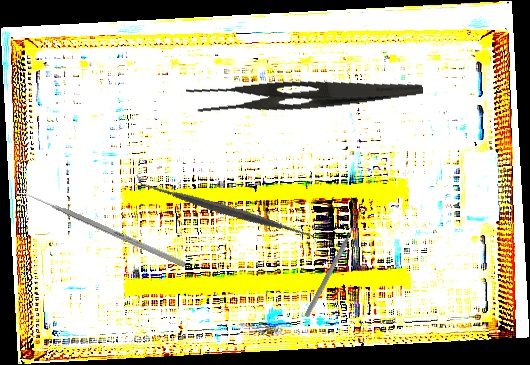Dressing Forceps: (185, 56, 424, 125)
Pusher: (18, 188, 187, 268), (303, 213, 364, 318)
Spatula Surgical: (135, 120, 319, 300)
